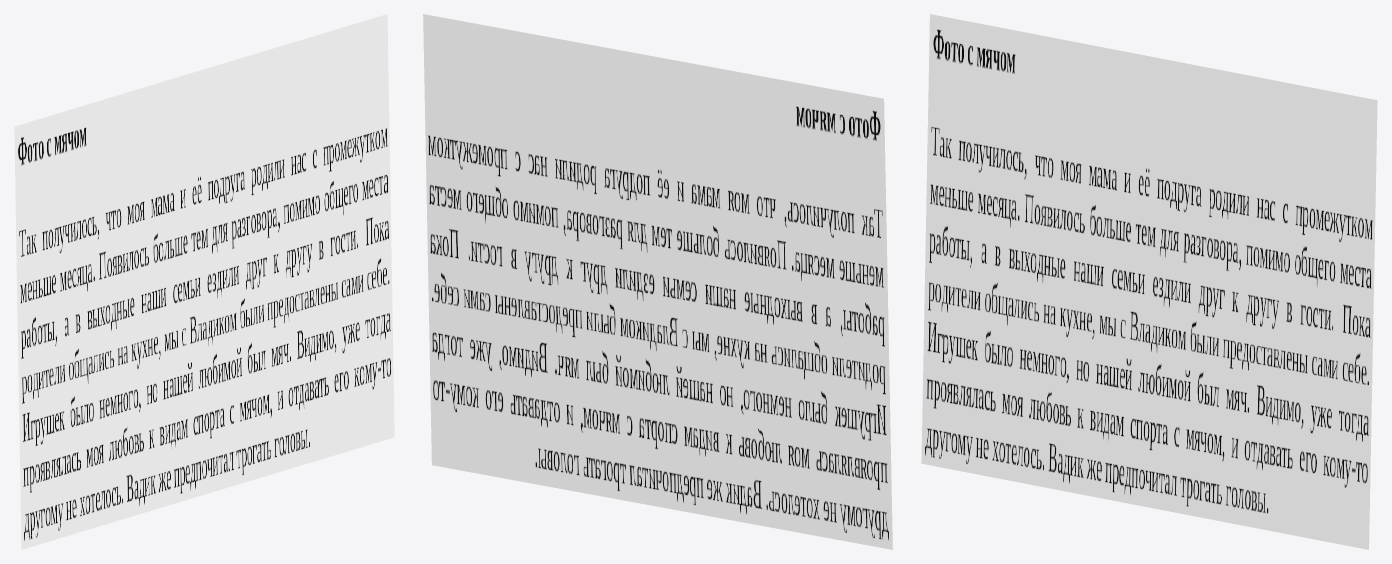
File: myach.gltf
The picture shows the model from 3 angles, left to right: view 1: azimuth 30°, elevation 25°; view 2: azimuth 150°, elevation 25°; view 3: azimuth 330°, elevation 25°; orthographic projection. The views are drawn at different scales.
Visible parts, largest first — view 1: Плоскость; view 2: Плоскость; view 3: Плоскость.
Part boxes in pixels (x1,y1,x2,y2): Плоскость: [14, 14, 394, 549]; Плоскость: [423, 14, 892, 549]; Плоскость: [921, 14, 1377, 549].
Bounding box in the file's own units: 1.99 × 2.01 × 0.274.
1 material, 1 textured.
